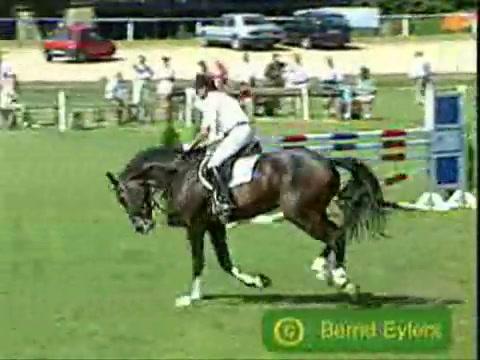horse: (107, 147, 389, 307)
